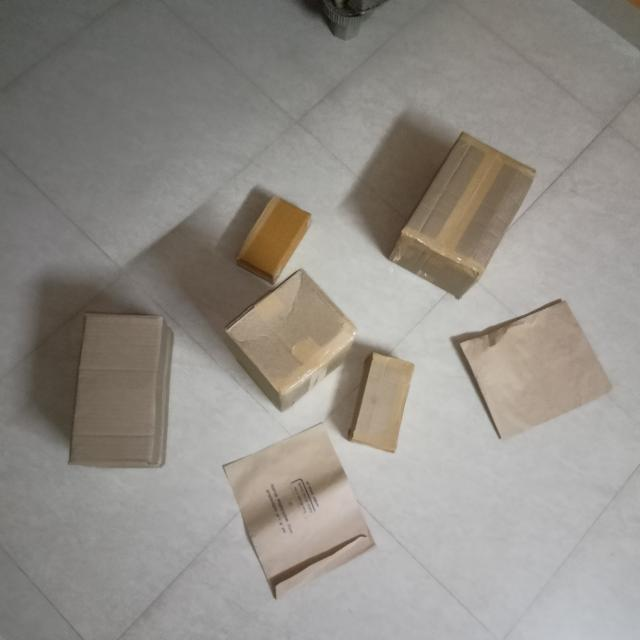box: (224, 424, 373, 601), (460, 293, 613, 440), (406, 131, 542, 274), (230, 266, 361, 392), (72, 316, 170, 470), (246, 194, 314, 282), (357, 353, 414, 449)
